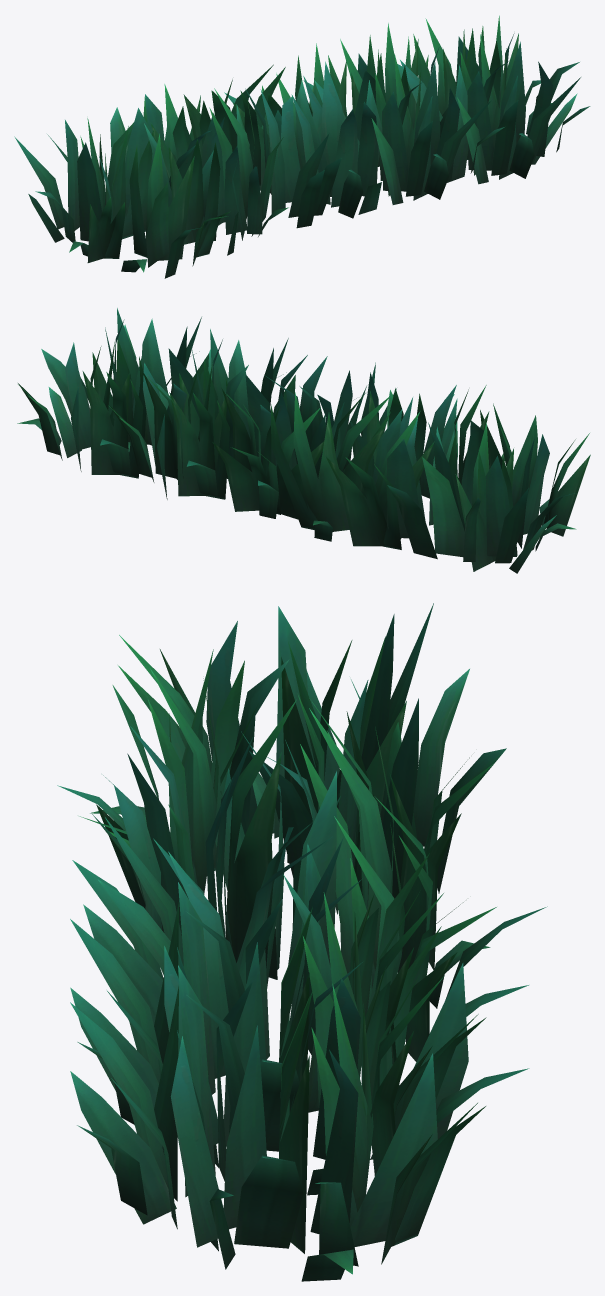
The model's file is pref_sm_beach_techgrass_alpha_01_lv1.fbx.
The picture shows the model from 3 angles, top to bottom: view 1: azimuth 30°, elevation 25°; view 2: azimuth 150°, elevation 25°; view 3: azimuth 270°, elevation 25°; orthographic projection. The views are drawn at different scales.
Visible parts, largest first — view 1: pref_sm_beach_techgrass_alpha_01_lv1; view 2: pref_sm_beach_techgrass_alpha_01_lv1; view 3: pref_sm_beach_techgrass_alpha_01_lv1.
Part boxes in pixels (x1,y1,x2,y2): pref_sm_beach_techgrass_alpha_01_lv1: (14,15,590,278); pref_sm_beach_techgrass_alpha_01_lv1: (17,308,590,573); pref_sm_beach_techgrass_alpha_01_lv1: (57,603,547,1281).
Bounding box in the file's own units: 7.91 × 2.03 × 3.13.
